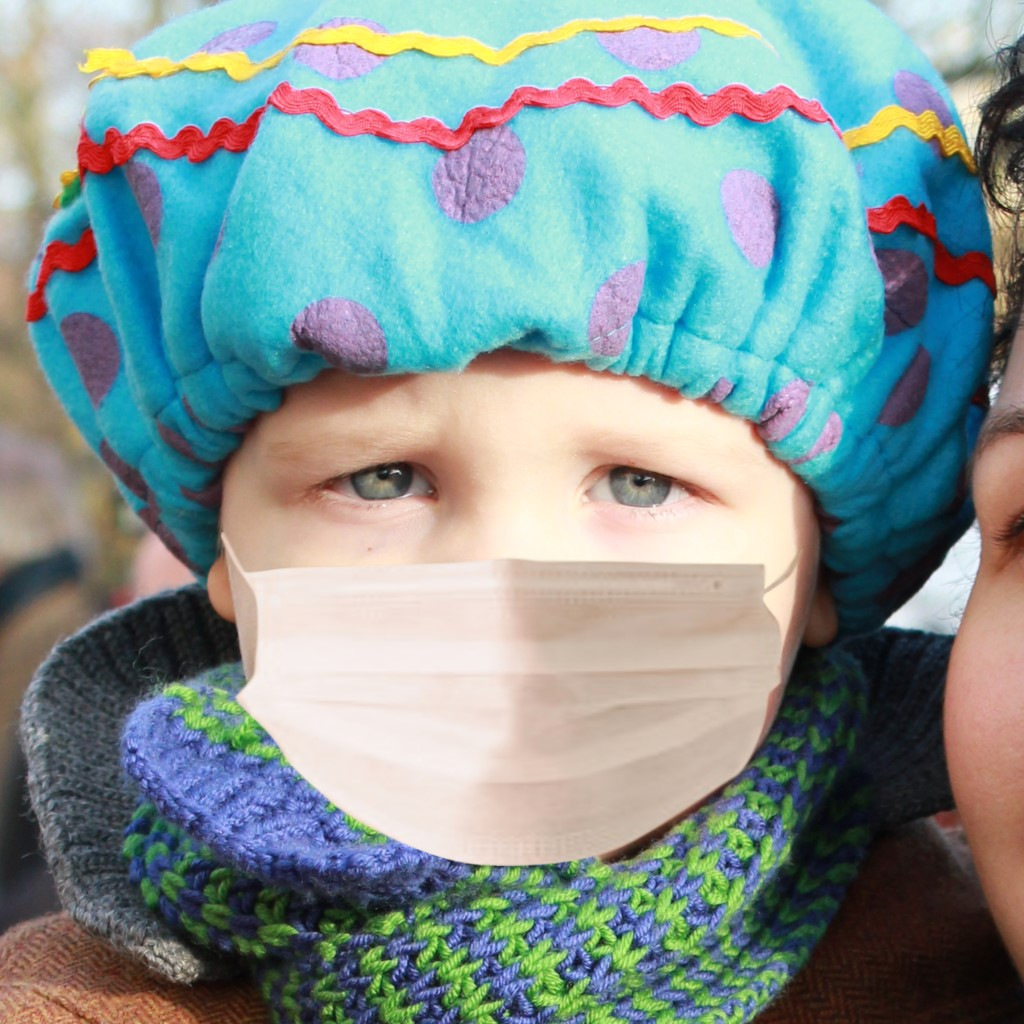con_mascara: (183, 231, 845, 908)
